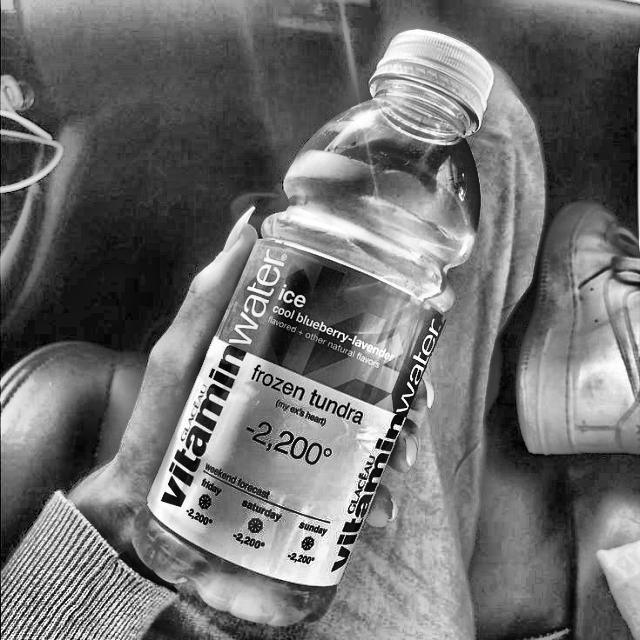waterbottle: (118, 13, 508, 635)
